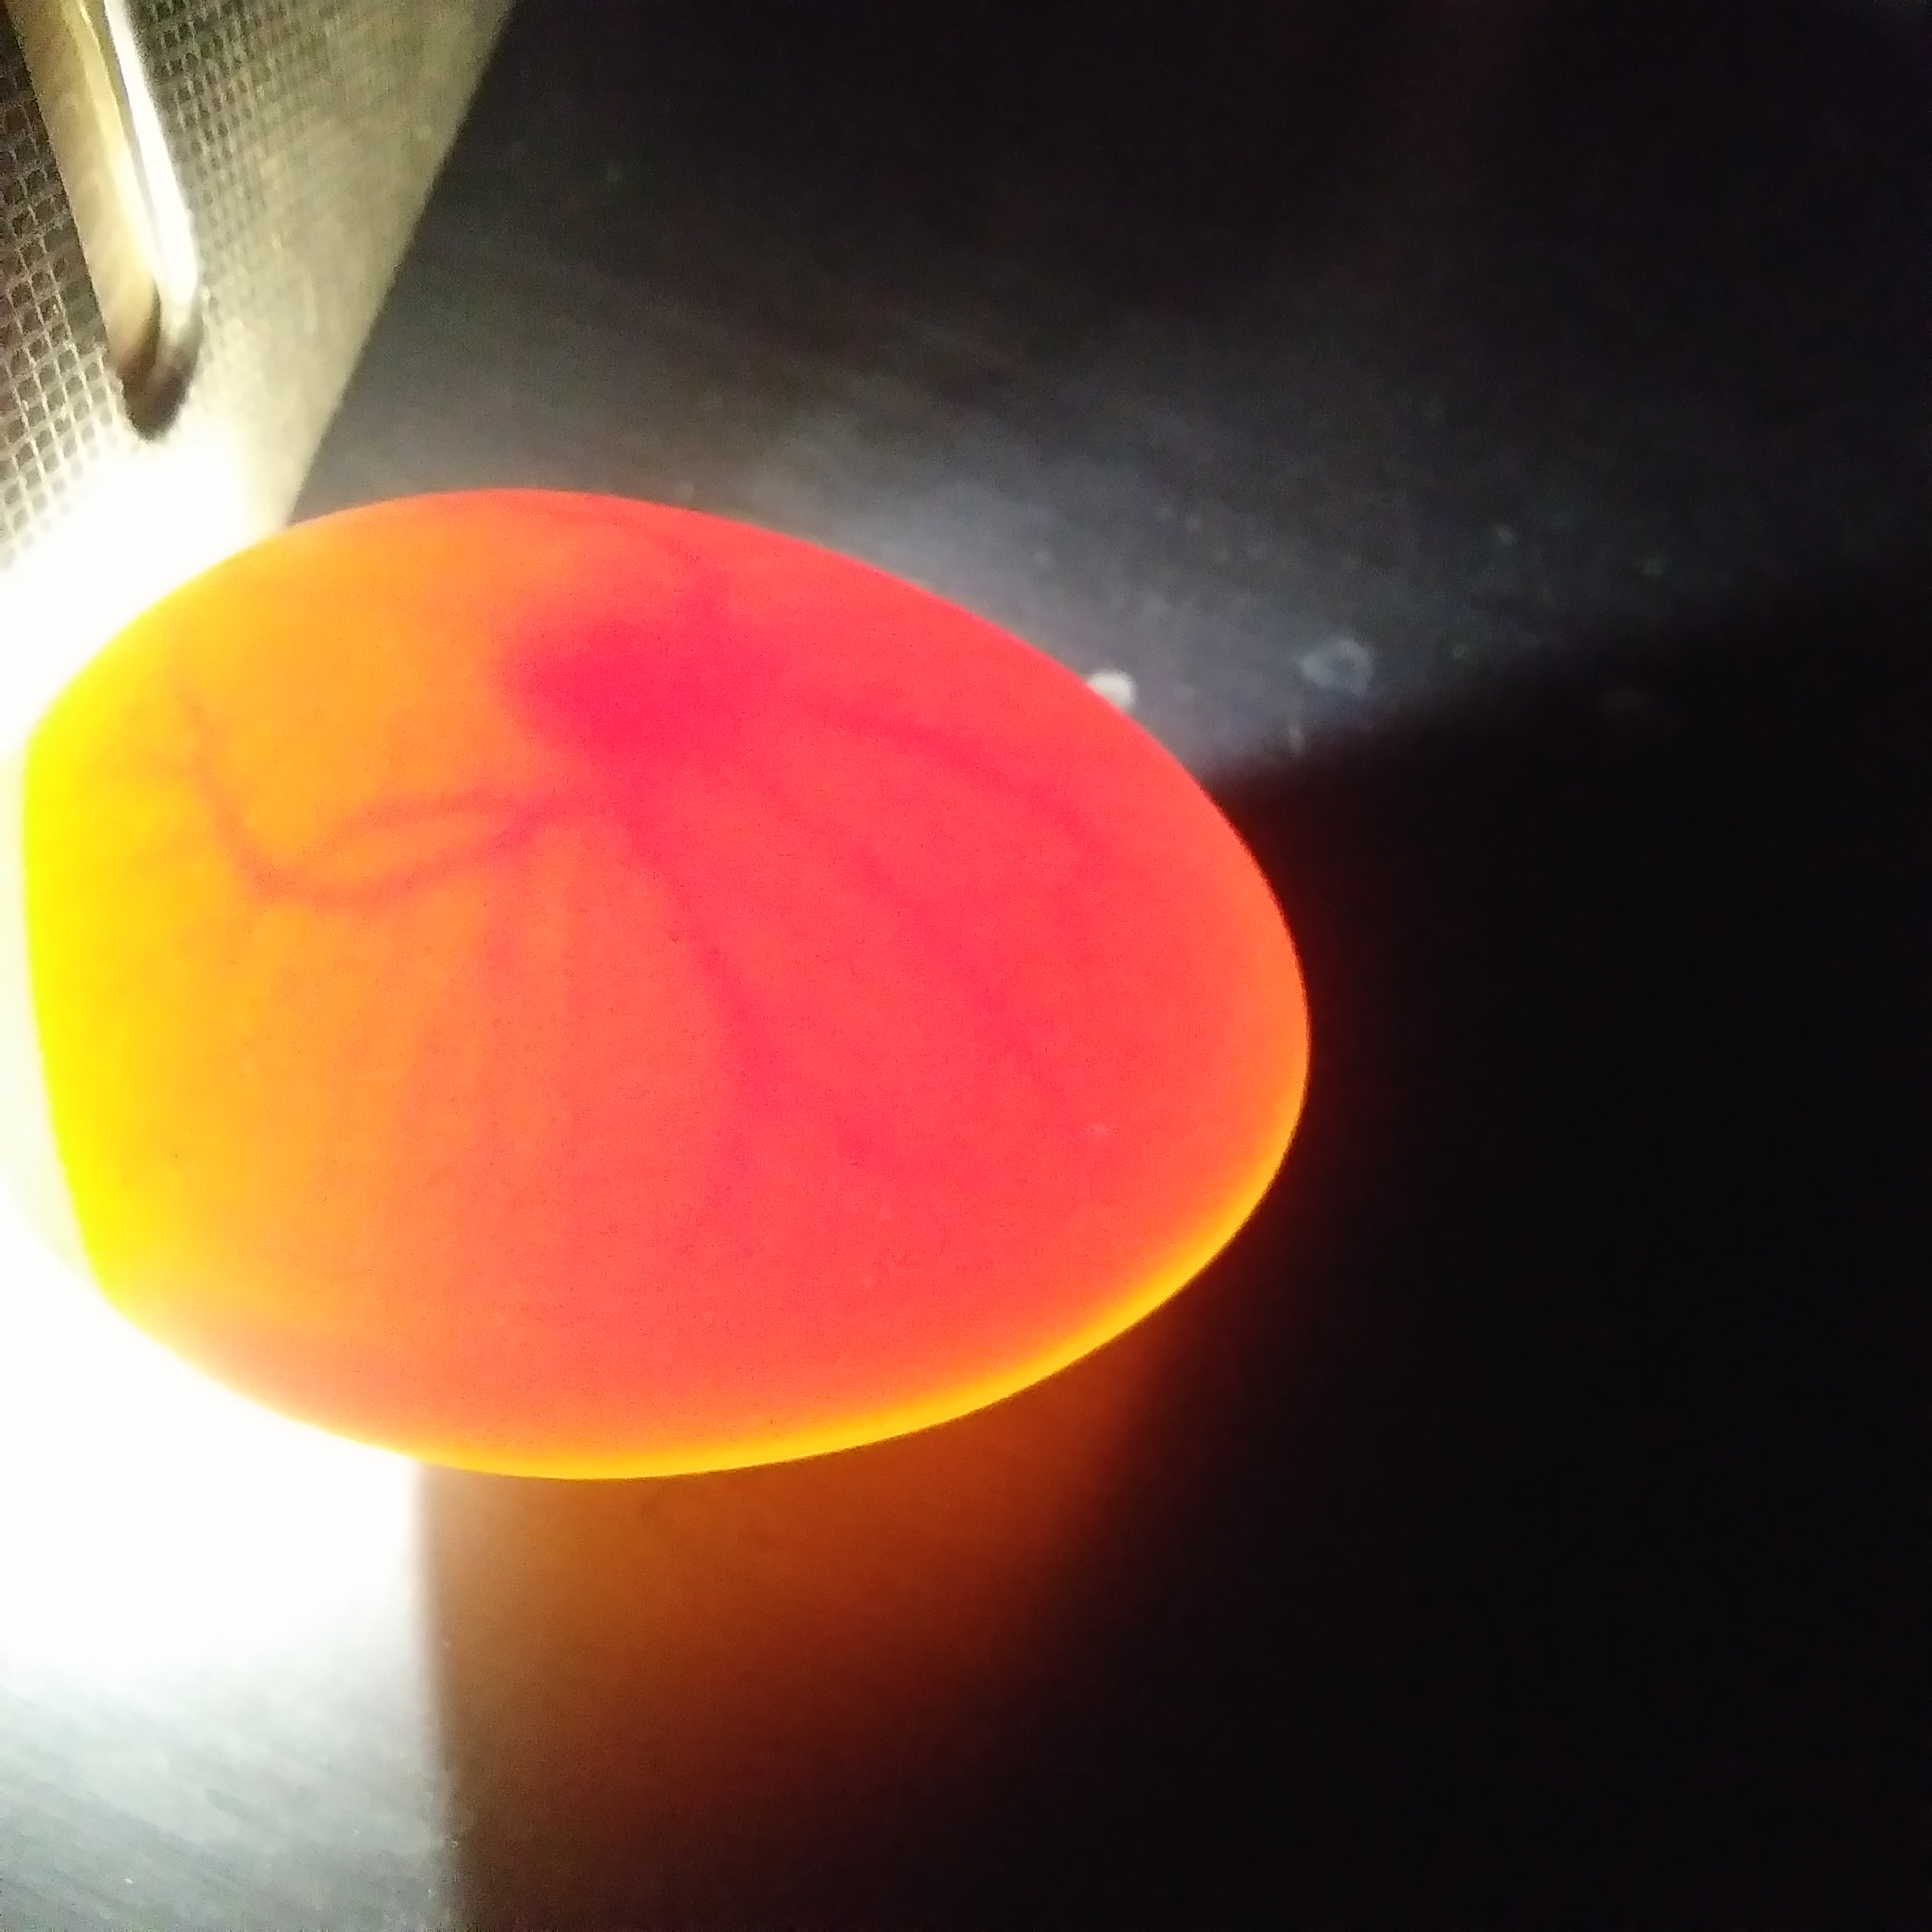bloodcell: (515, 814, 1228, 1132), (80, 694, 485, 1122)
embryo: (513, 602, 702, 768)
